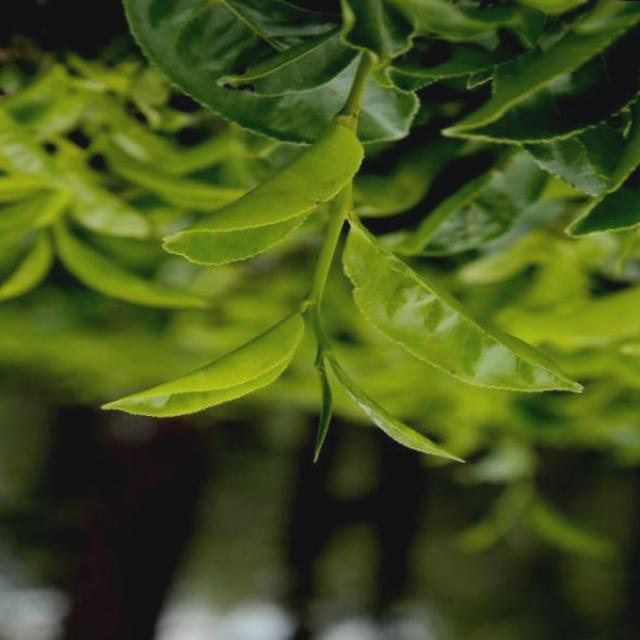Stem: (315, 332, 331, 353)
